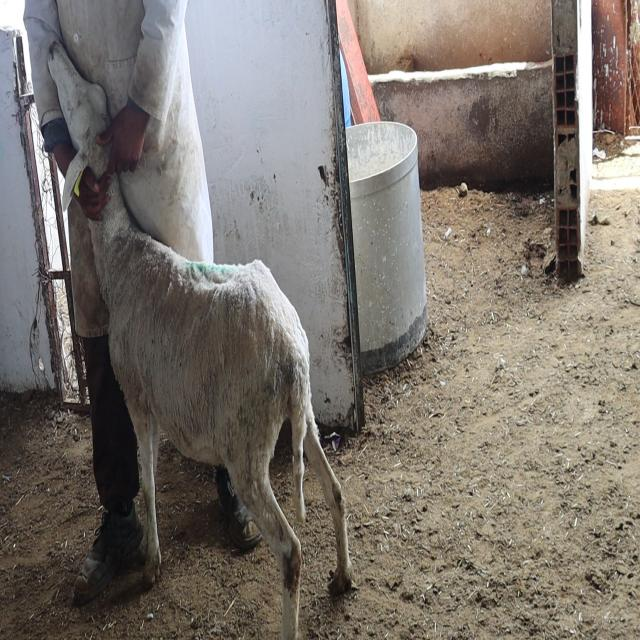Score_1: (48, 43, 352, 639)
